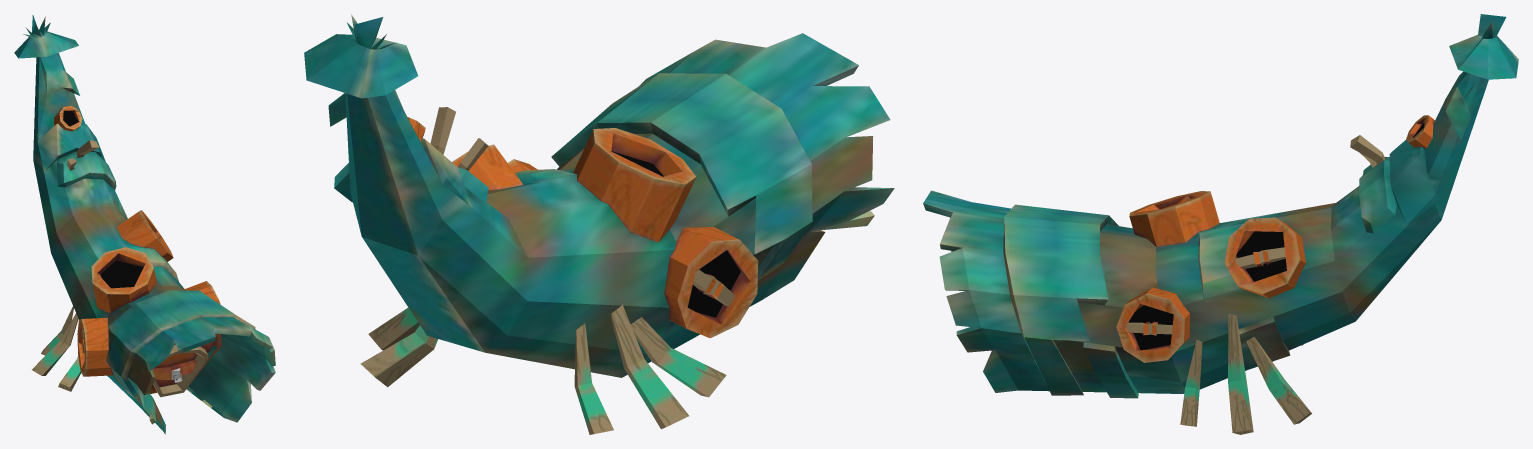
Rendered from 4_houses_fantasy_fantasy_house_tall_timber.glb.
3 views of the same model, side by side, from view 1: azimuth 30°, elevation 25°; view 2: azimuth 150°, elevation 25°; view 3: azimuth 270°, elevation 25° (orthographic). The views are drawn at different scales.
Parts seen in each view (by area): view 1: Object_4; view 2: Object_4; view 3: Object_4.
Boxes of the visible parts, box(x1,y1,x2,y2) form: Object_4: box(14, 15, 275, 434); Object_4: box(304, 14, 894, 434); Object_4: box(923, 14, 1518, 434).
Size of the model in its own units: 2.85 by 4.1 by 5.96.
5 materials, 3 textured.
